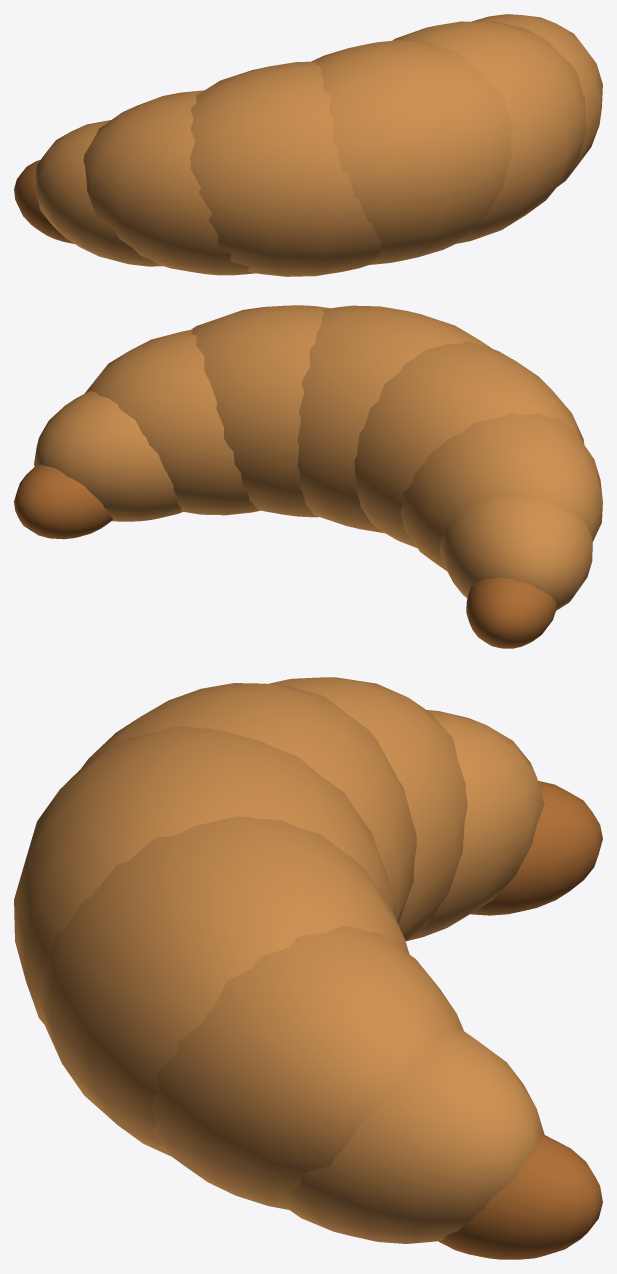
The model's file is croissant.glb.
3 views of the same model, one above another, from view 1: azimuth 30°, elevation 25°; view 2: azimuth 150°, elevation 25°; view 3: azimuth 270°, elevation 25° (orthographic). The views are drawn at different scales.
Parts seen in each view (by area): view 1: Croissant_Croissant, Croissant_CroissantTips; view 2: Croissant_Croissant, Croissant_CroissantTips; view 3: Croissant_Croissant, Croissant_CroissantTips.
Part boxes in pixels (x1,y1,x2,y2): Croissant_Croissant: (34, 14, 602, 276); Croissant_CroissantTips: (14, 160, 74, 243); Croissant_Croissant: (34, 305, 602, 610); Croissant_CroissantTips: (14, 464, 556, 648); Croissant_Croissant: (14, 677, 544, 1243); Croissant_CroissantTips: (438, 780, 602, 1259).
Size of the model in its own units: 0.1489 by 0.0528 by 0.0889.
